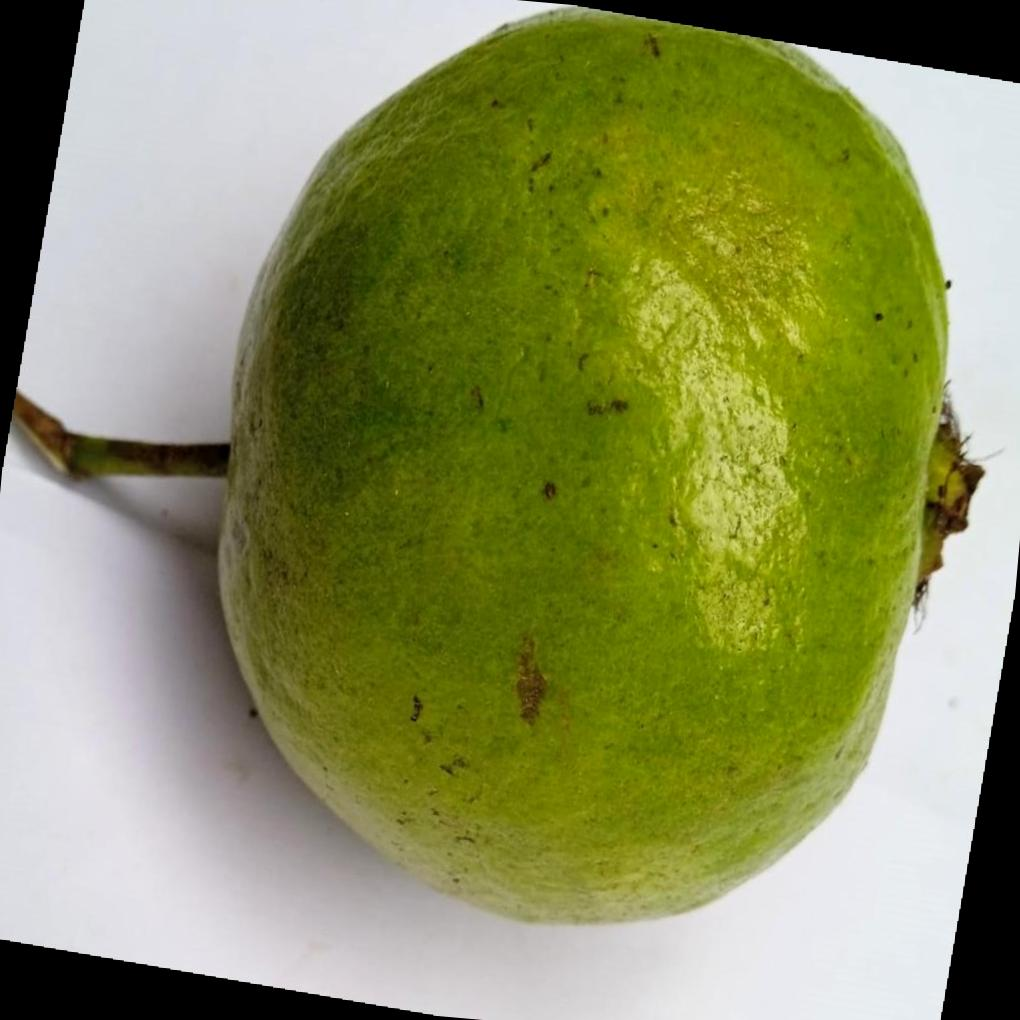FreshGuava: (218, 5, 980, 929)
